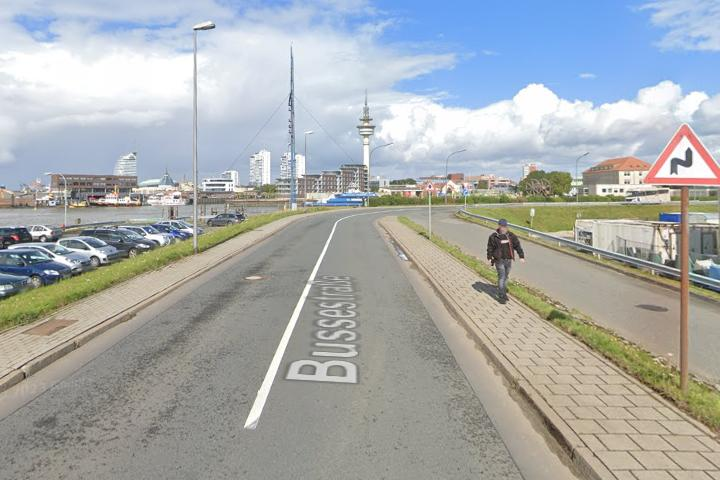traffic_sign: (642, 122, 720, 185)
vehicle: (1, 247, 75, 292), (55, 234, 118, 271), (206, 210, 246, 228)
